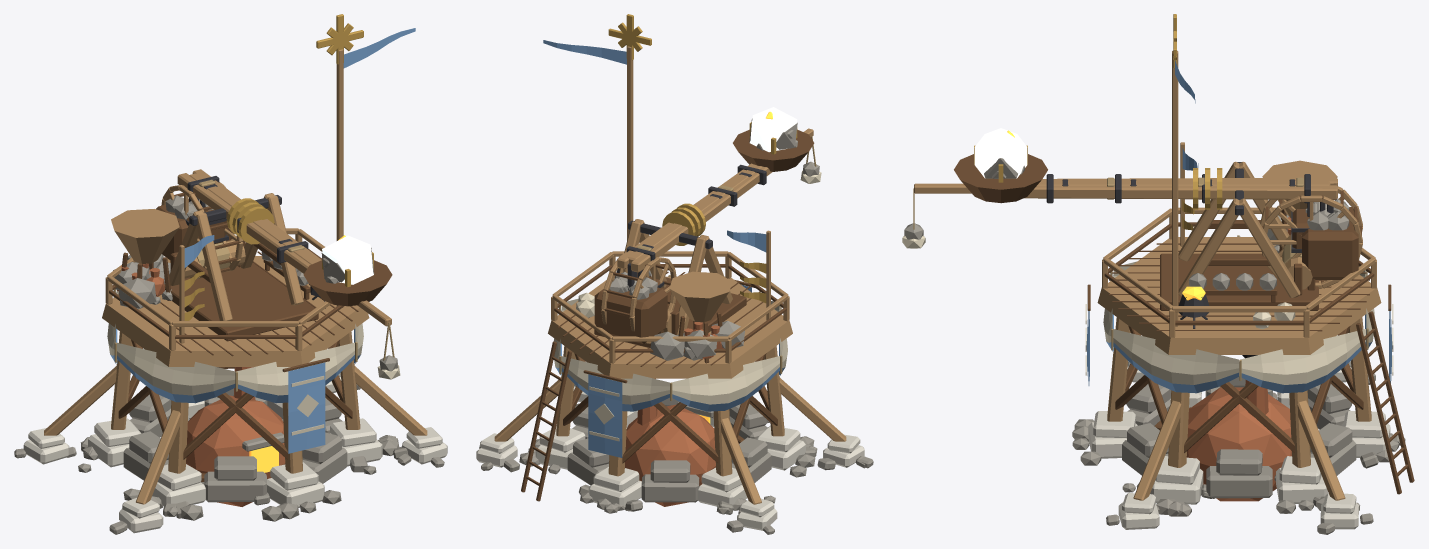
Rendered from catapult.glb.
3 views of the same model, side by side, from view 1: azimuth 30°, elevation 25°; view 2: azimuth 150°, elevation 25°; view 3: azimuth 270°, elevation 25° (orthographic). The views are drawn at different scales.
Parts seen in each view (by area): view 1: Catapult__mesh, Catapult_Yaw__mesh, Catapult__farthrow__mesh, Catapult__boulder__mesh, Catapult__rubble__mesh, Catapult__firepot__mesh, Catapult_Pitch__boulder__mesh, Catapult__meteor__mesh, Catapult_Pitch__boulder_meteor__mesh, Catapult_Yaw__volley__mesh, Catapult_Pitch__not_boulder_volley__mesh, Catapult_Pitch__farthrow_volley__mesh (+2 smaller); view 2: Catapult__mesh, Catapult_Pitch__boulder__mesh, Catapult__boulder__mesh, Catapult__farthrow__mesh, Catapult__firepot__mesh, Catapult__rubble__mesh, Catapult_Yaw__mesh, Catapult__meteor__mesh, Catapult_Yaw__volley__mesh, Catapult_Pitch__boulder_meteor__mesh, Catapult_Pitch__not_boulder_volley__mesh, Catapult_Pitch__farthrow_volley__mesh; view 3: Catapult__mesh, Catapult_Pitch__boulder__mesh, Catapult_Yaw__mesh, Catapult__boulder__mesh, Catapult__firepot__mesh, Catapult__farthrow__mesh, Catapult__rubble__mesh, Catapult_Yaw__volley__mesh, Catapult__meteor__mesh, Catapult_Pitch__boulder_meteor__mesh, Catapult_Pitch__not_boulder_volley__mesh, Catapult_Pitch__farthrow_volley__mesh (+3 smaller).
Boxes of the visible parts, x1,y1,x2,y2 form: Catapult__mesh: (81,228,382,518); Catapult_Yaw__mesh: (164,193,318,341); Catapult__farthrow__mesh: (14,366,447,534); Catapult__boulder__mesh: (113,254,347,502); Catapult__rubble__mesh: (78,209,399,521); Catapult__firepot__mesh: (117,263,325,506); Catapult_Pitch__boulder__mesh: (156,169,392,306); Catapult__meteor__mesh: (316,14,415,307); Catapult_Pitch__boulder_meteor__mesh: (322,235,373,287); Catapult_Yaw__volley__mesh: (161,182,310,299); Catapult_Pitch__not_boulder_volley__mesh: (186,173,318,264); Catapult_Pitch__farthrow_volley__mesh: (357,300,400,379); Catapult__mesh: (521,230,816,514); Catapult_Pitch__boulder__mesh: (594,129,814,343); Catapult__boulder__mesh: (567,320,771,502); Catapult__farthrow__mesh: (476,377,873,534); Catapult__firepot__mesh: (615,268,744,506); Catapult__rubble__mesh: (519,271,817,514); Catapult_Yaw__mesh: (594,219,746,348); Catapult__meteor__mesh: (543,14,651,240); Catapult_Yaw__volley__mesh: (601,252,676,343); Catapult_Pitch__boulder_meteor__mesh: (749,107,797,154); Catapult_Pitch__not_boulder_volley__mesh: (620,164,762,291); Catapult_Pitch__farthrow_volley__mesh: (800,128,821,183); Catapult__mesh: (1085,142,1414,506); Catapult_Pitch__boulder__mesh: (954,154,1358,279); Catapult_Yaw__mesh: (1160,161,1318,310); Catapult__boulder__mesh: (1122,214,1356,498); Catapult__firepot__mesh: (1154,217,1291,501); Catapult__farthrow__mesh: (1106,361,1375,534); Catapult__rubble__mesh: (1072,160,1405,516); Catapult_Yaw__volley__mesh: (1203,186,1362,302); Catapult__meteor__mesh: (1172,14,1195,326); Catapult_Pitch__boulder_meteor__mesh: (974,128,1027,182); Catapult_Pitch__not_boulder_volley__mesh: (1037,177,1334,232); Catapult_Pitch__farthrow_volley__mesh: (902,183,971,248).
Bounding box in the file's own units: 10.97 × 15.19 × 13.53.
